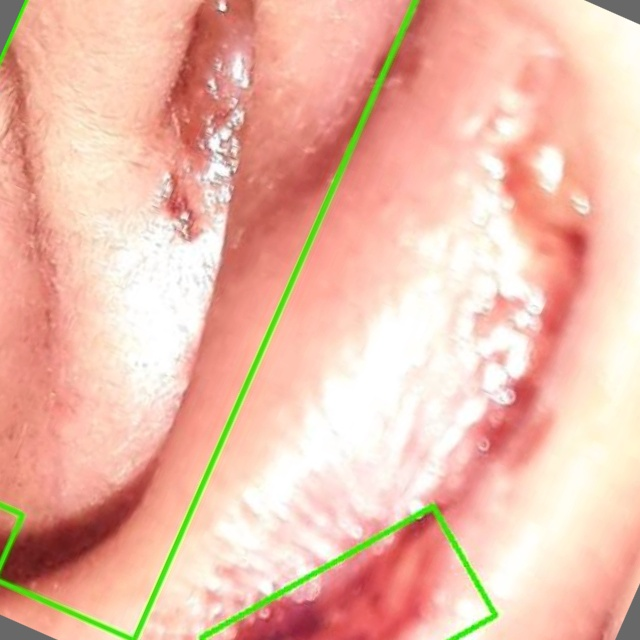Eczema: (0, 0, 416, 639)
